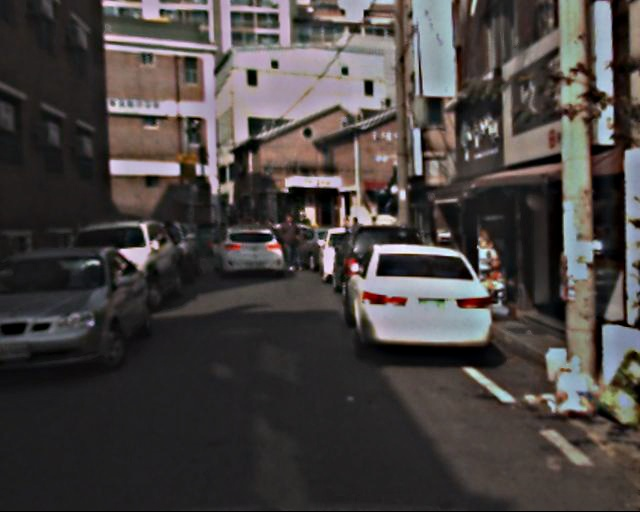person: (276, 212, 302, 275)
